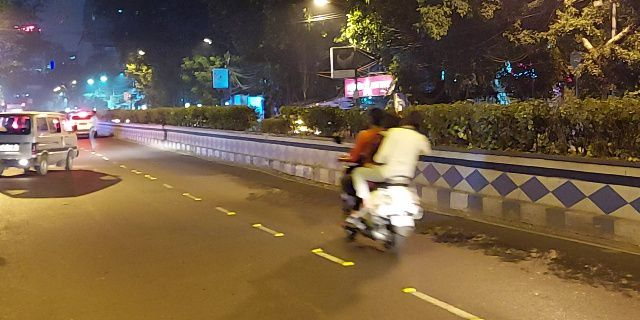Motorbike: (332, 100, 429, 259)
Van: (8, 112, 83, 175)
